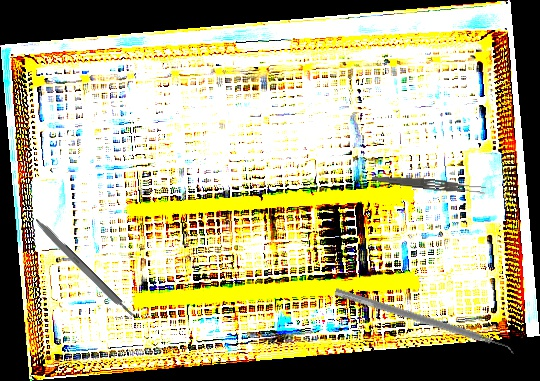Dressing Forceps: (371, 174, 487, 196)
Scalpel Handle: (31, 216, 136, 321)
Spatula Surgical: (331, 287, 518, 360)
